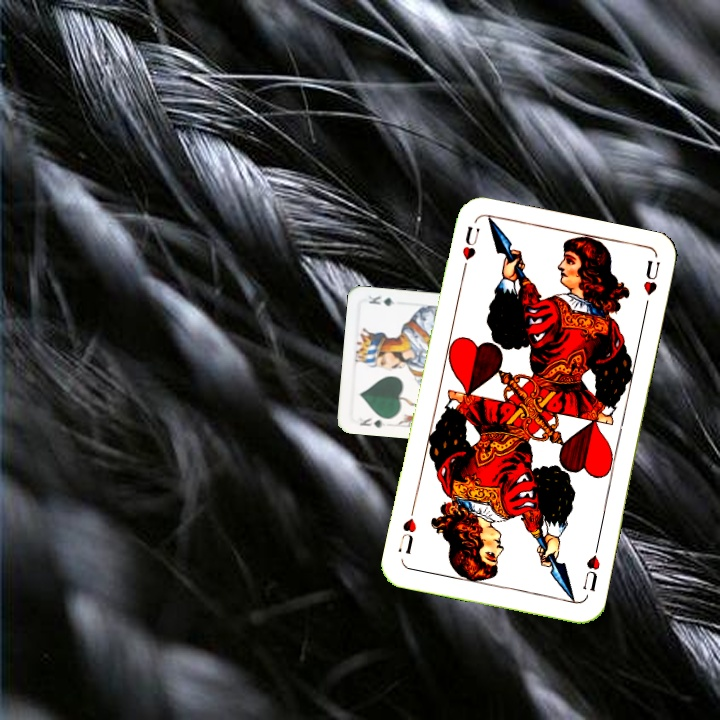GK: (355, 414, 387, 430)
HU: (457, 222, 483, 278), (579, 541, 603, 595)
